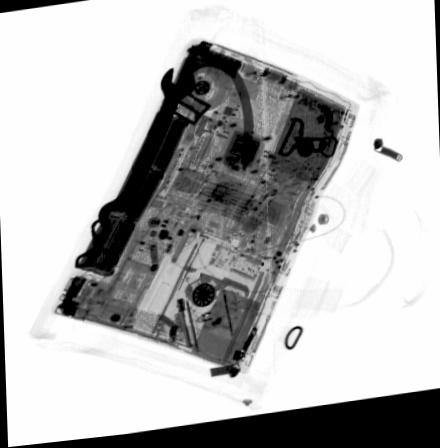Wrench: (97, 68, 197, 231)
